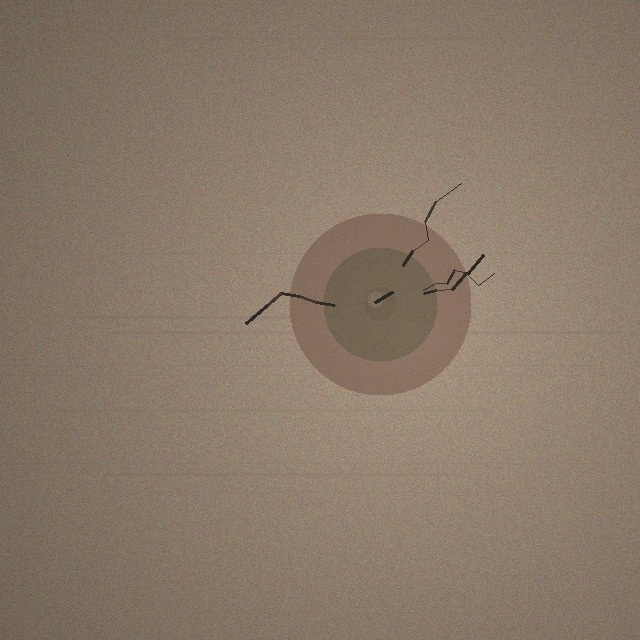crack: (289, 213, 471, 395)
